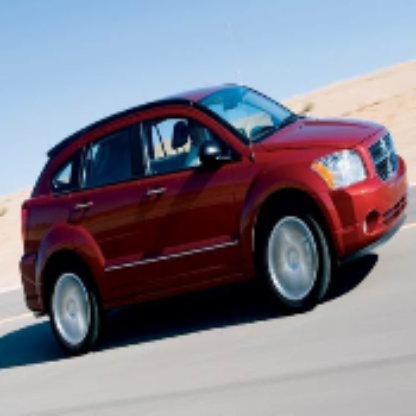Vehicle: (20, 24, 410, 357)
